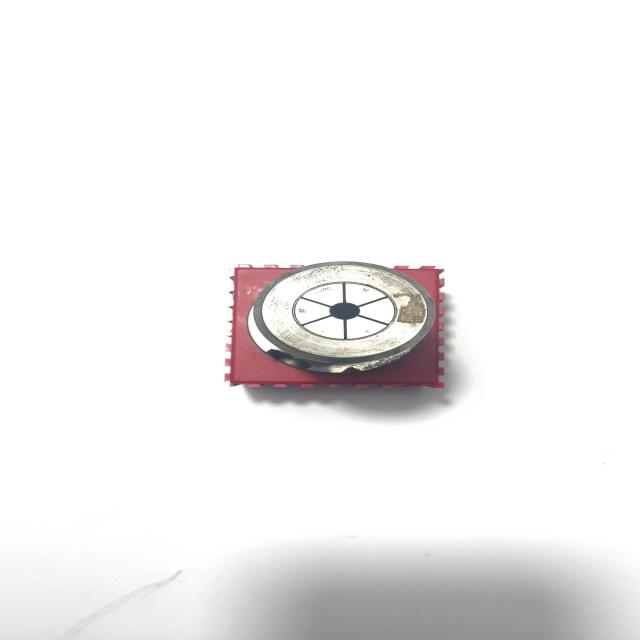Filled_Slot: (246, 262, 435, 373)
